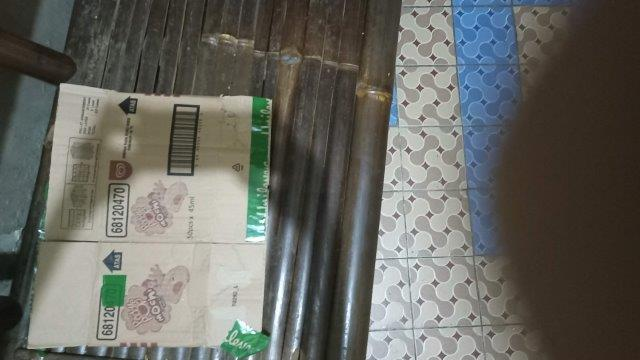kardus: (28, 83, 271, 347)
